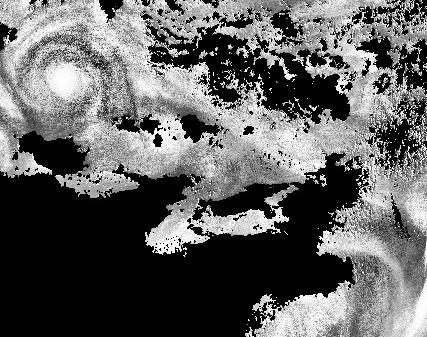CE: (15, 28, 119, 130)
